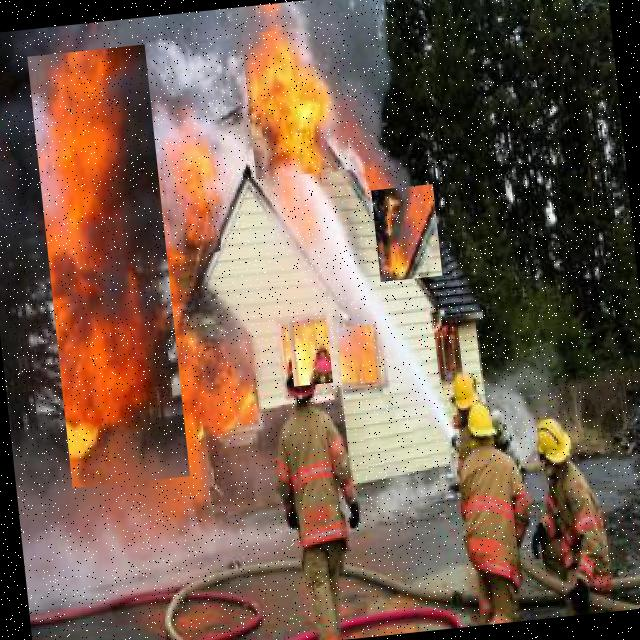fire: (27, 44, 190, 488), (240, 24, 350, 179), (160, 134, 221, 256), (371, 184, 442, 282), (336, 323, 383, 398), (286, 314, 332, 386)
